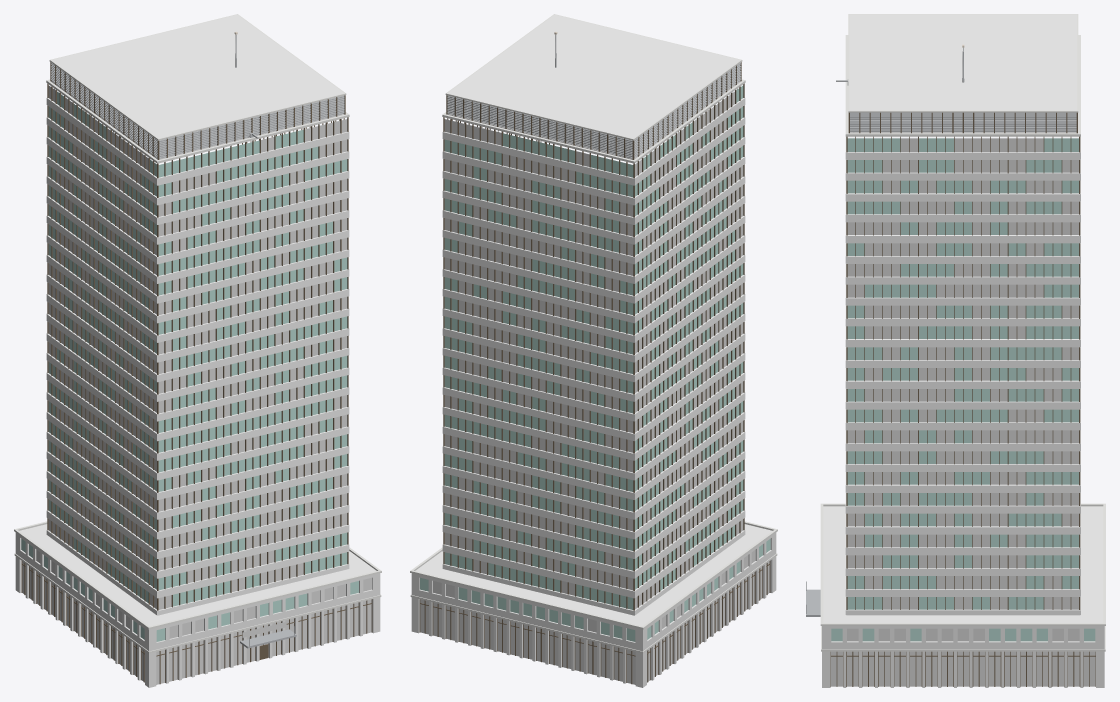
The model's file is tower_p350a.glb.
3 renders of one model, left to right at view 1: azimuth 30°, elevation 25°; view 2: azimuth 150°, elevation 25°; view 3: azimuth 270°, elevation 25°, orthographic. The views are drawn at different scales.
Parts seen in each view (by area): view 1: tower_p350a_Walls, tower_p350a_Glass, tower_p350a_WindowsLit, tower_p350a_Frames, tower_p350a_Roof, tower_p350a_Walls2, tower_p350a_Trim, tower_p350a_Details; view 2: tower_p350a_Walls, tower_p350a_Glass, tower_p350a_WindowsLit, tower_p350a_Frames, tower_p350a_Roof, tower_p350a_Walls2, tower_p350a_Trim, tower_p350a_Details; view 3: tower_p350a_Walls, tower_p350a_WindowsLit, tower_p350a_Glass, tower_p350a_Roof, tower_p350a_Frames, tower_p350a_Walls2, tower_p350a_Trim, tower_p350a_Details.
Boxes of the visible parts, x1,y1,x2,y2 form: tower_p350a_Walls: (46,81,349,615); tower_p350a_Glass: (21,91,358,641); tower_p350a_WindowsLit: (22,85,371,684); tower_p350a_Frames: (21,62,372,684); tower_p350a_Roof: (19,14,376,626); tower_p350a_Walls2: (15,532,380,687); tower_p350a_Trim: (14,14,381,653); tower_p350a_Details: (50,34,344,646); tower_p350a_Walls: (442,81,745,615); tower_p350a_Glass: (420,85,770,641); tower_p350a_WindowsLit: (420,91,769,684); tower_p350a_Frames: (419,62,770,684); tower_p350a_Roof: (415,14,772,626); tower_p350a_Walls2: (411,532,776,687); tower_p350a_Trim: (410,14,777,653); tower_p350a_Details: (447,34,741,158); tower_p350a_Walls: (845,132,1080,615); tower_p350a_WindowsLit: (831,138,1095,686); tower_p350a_Glass: (831,138,1095,641); tower_p350a_Roof: (823,14,1103,622); tower_p350a_Frames: (830,112,1095,686); tower_p350a_Walls2: (822,626,1104,687); tower_p350a_Trim: (820,14,1105,651); tower_p350a_Details: (806,47,1076,613).
Size of the model in its own units: 161 by 377 by 170.
